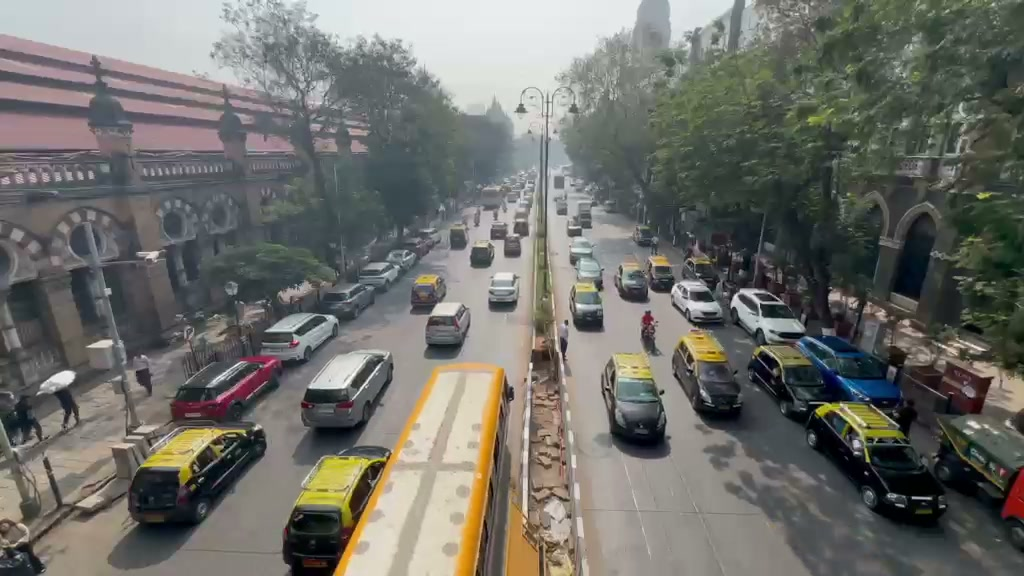car: (127, 423, 268, 526), (281, 446, 391, 574), (933, 413, 1024, 502), (299, 348, 394, 431), (169, 354, 283, 422), (747, 342, 833, 422), (671, 328, 743, 417), (600, 351, 668, 444), (257, 311, 339, 366), (730, 288, 808, 344), (318, 280, 376, 322), (670, 280, 724, 325), (424, 300, 471, 347), (569, 285, 604, 330), (357, 259, 402, 294), (410, 271, 447, 310), (615, 260, 650, 301), (486, 271, 520, 307), (469, 239, 495, 268), (385, 248, 417, 268)
pedestrian: (55, 382, 79, 430), (640, 309, 657, 347)
truck: (803, 400, 949, 525), (931, 412, 1023, 506)
